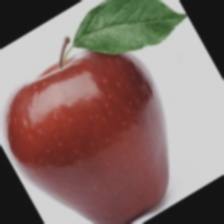apple: (0, 49, 180, 184)
